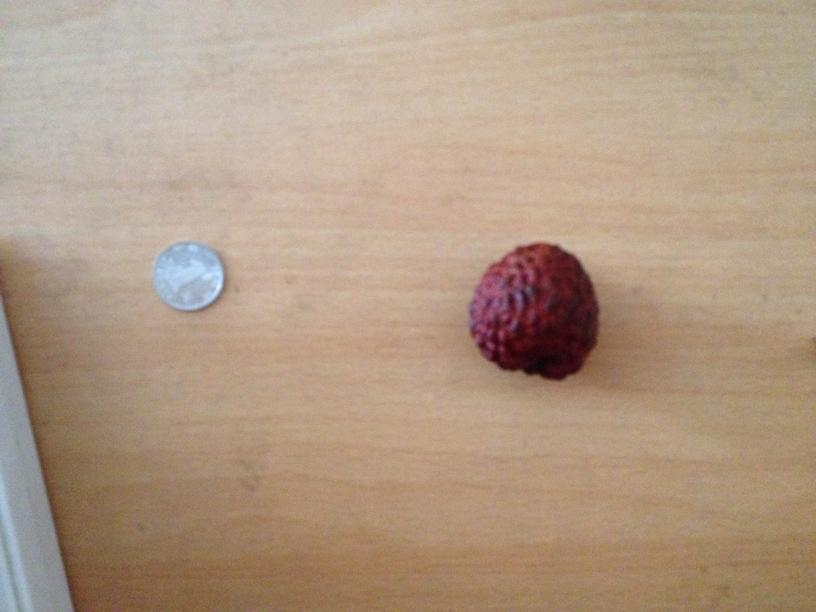coin: (151, 240, 223, 312)
litchi: (473, 242, 599, 378)
